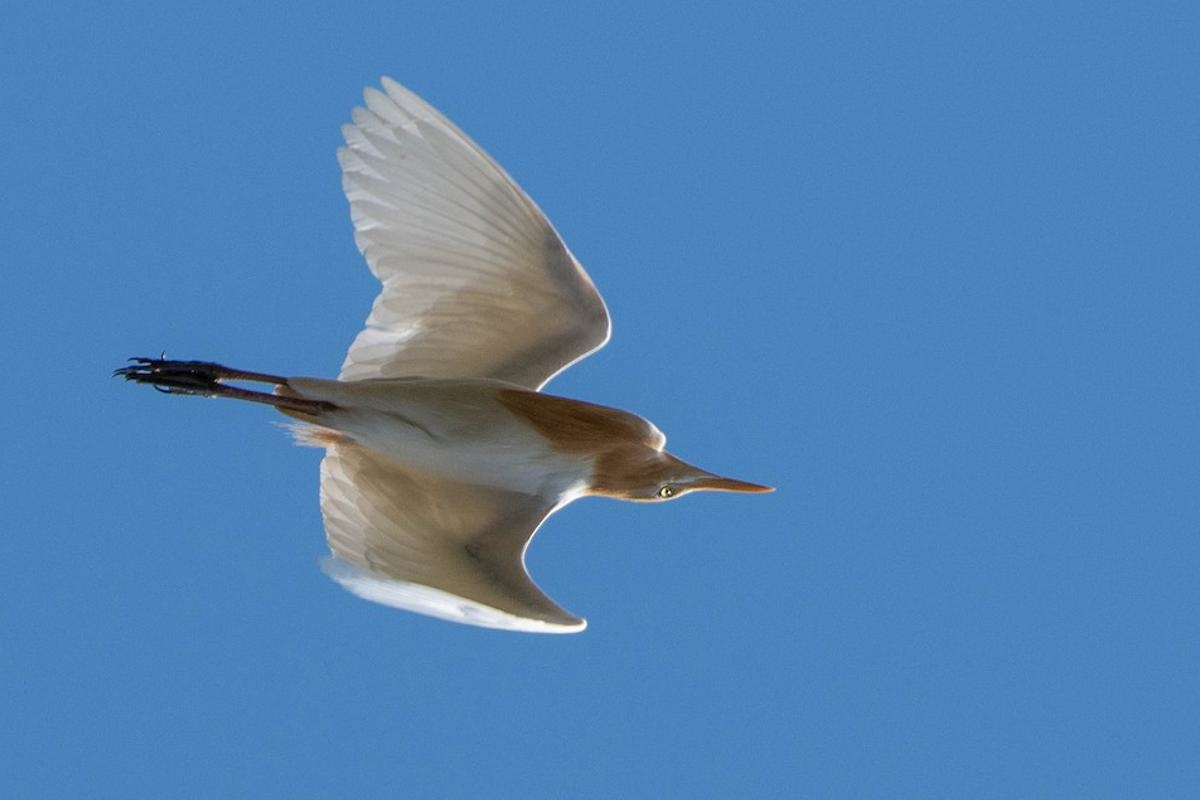egret: (83, 78, 841, 688)
